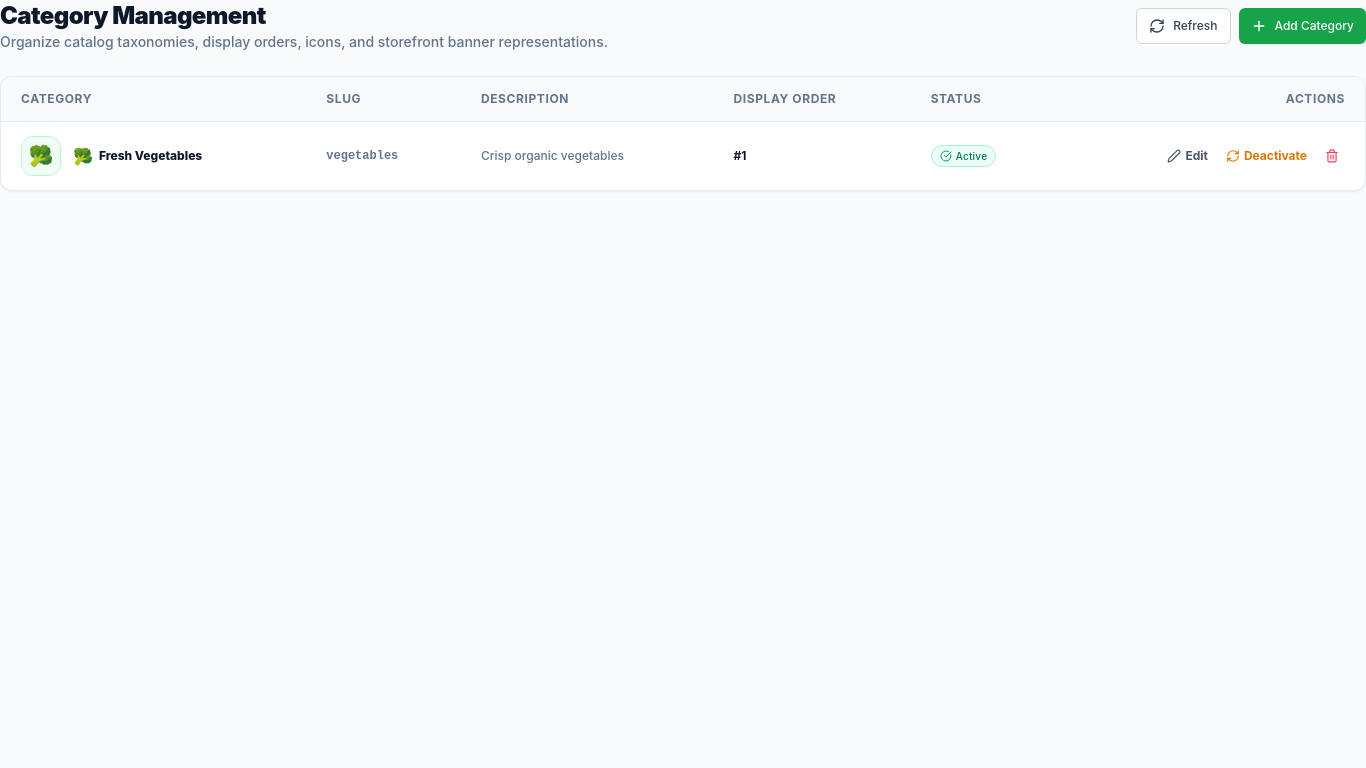
Scenario: Phase 9: Admin Backoffice UI Components & Flows › AdminCategoriesPage › renders categories list and opens create category modal
The width and height of the screenshot is (1366, 768).
Check: the text "Fresh Vegetables" is shown, box [99,148,202,164]
Check: the text "vegetables" is shown, box [306,122,461,190]
// Open Create Modal
What coordinates should you click on to do the following:
click the button "Add Category"
I would click on:
 (1302, 26)
Its box is [1238,8,1365,44].
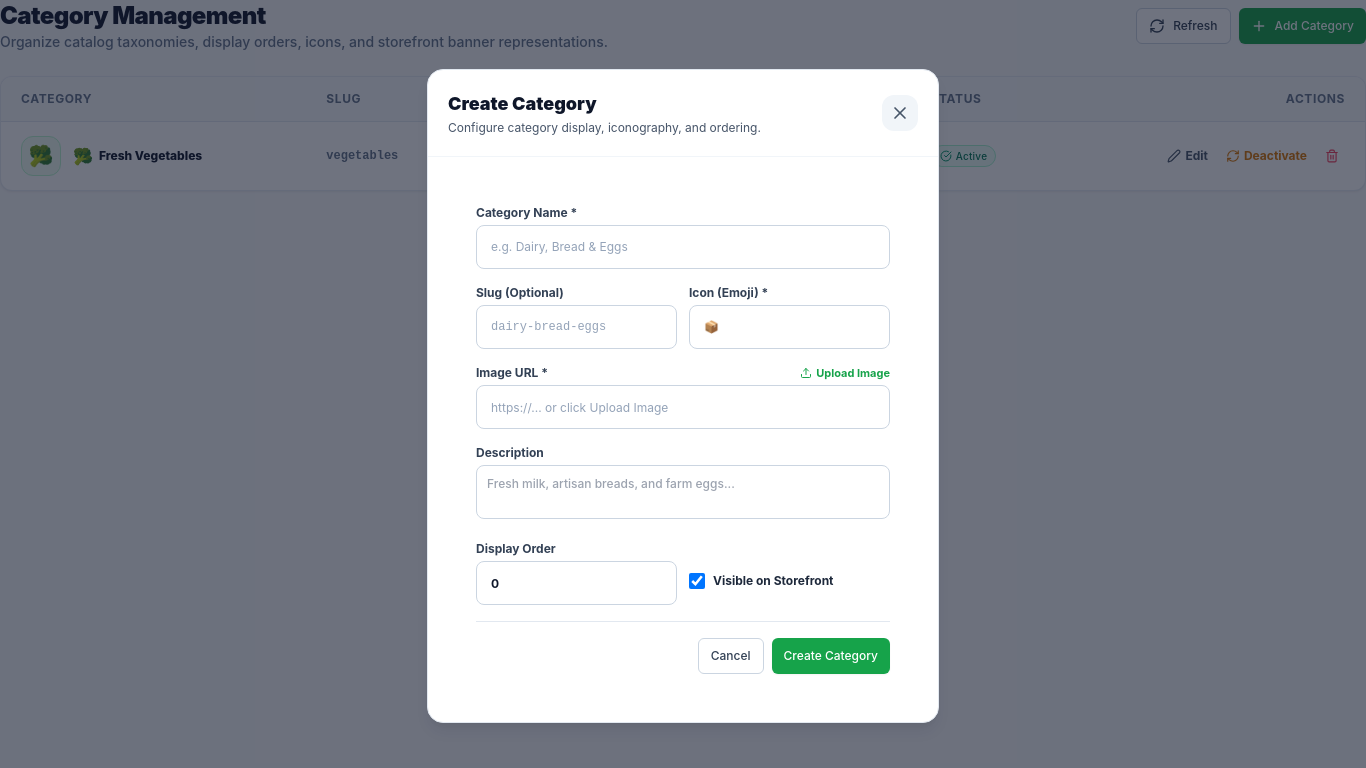
Check: the heading "Create Category" is shown, box [448,93,597,114]
